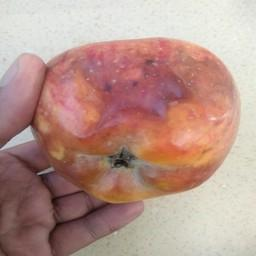Bad_apple: (38, 37, 239, 200)
